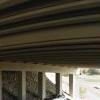Bridge: (5, 11, 92, 92)
